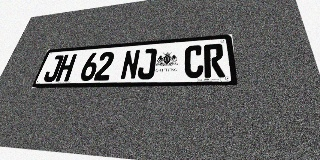2: (94, 51, 115, 81)
6: (79, 52, 101, 81)
C: (184, 45, 204, 78)
H: (55, 54, 77, 82)
J: (137, 48, 157, 79), (42, 55, 64, 82)
N: (120, 49, 141, 80)
R: (204, 43, 225, 78)
